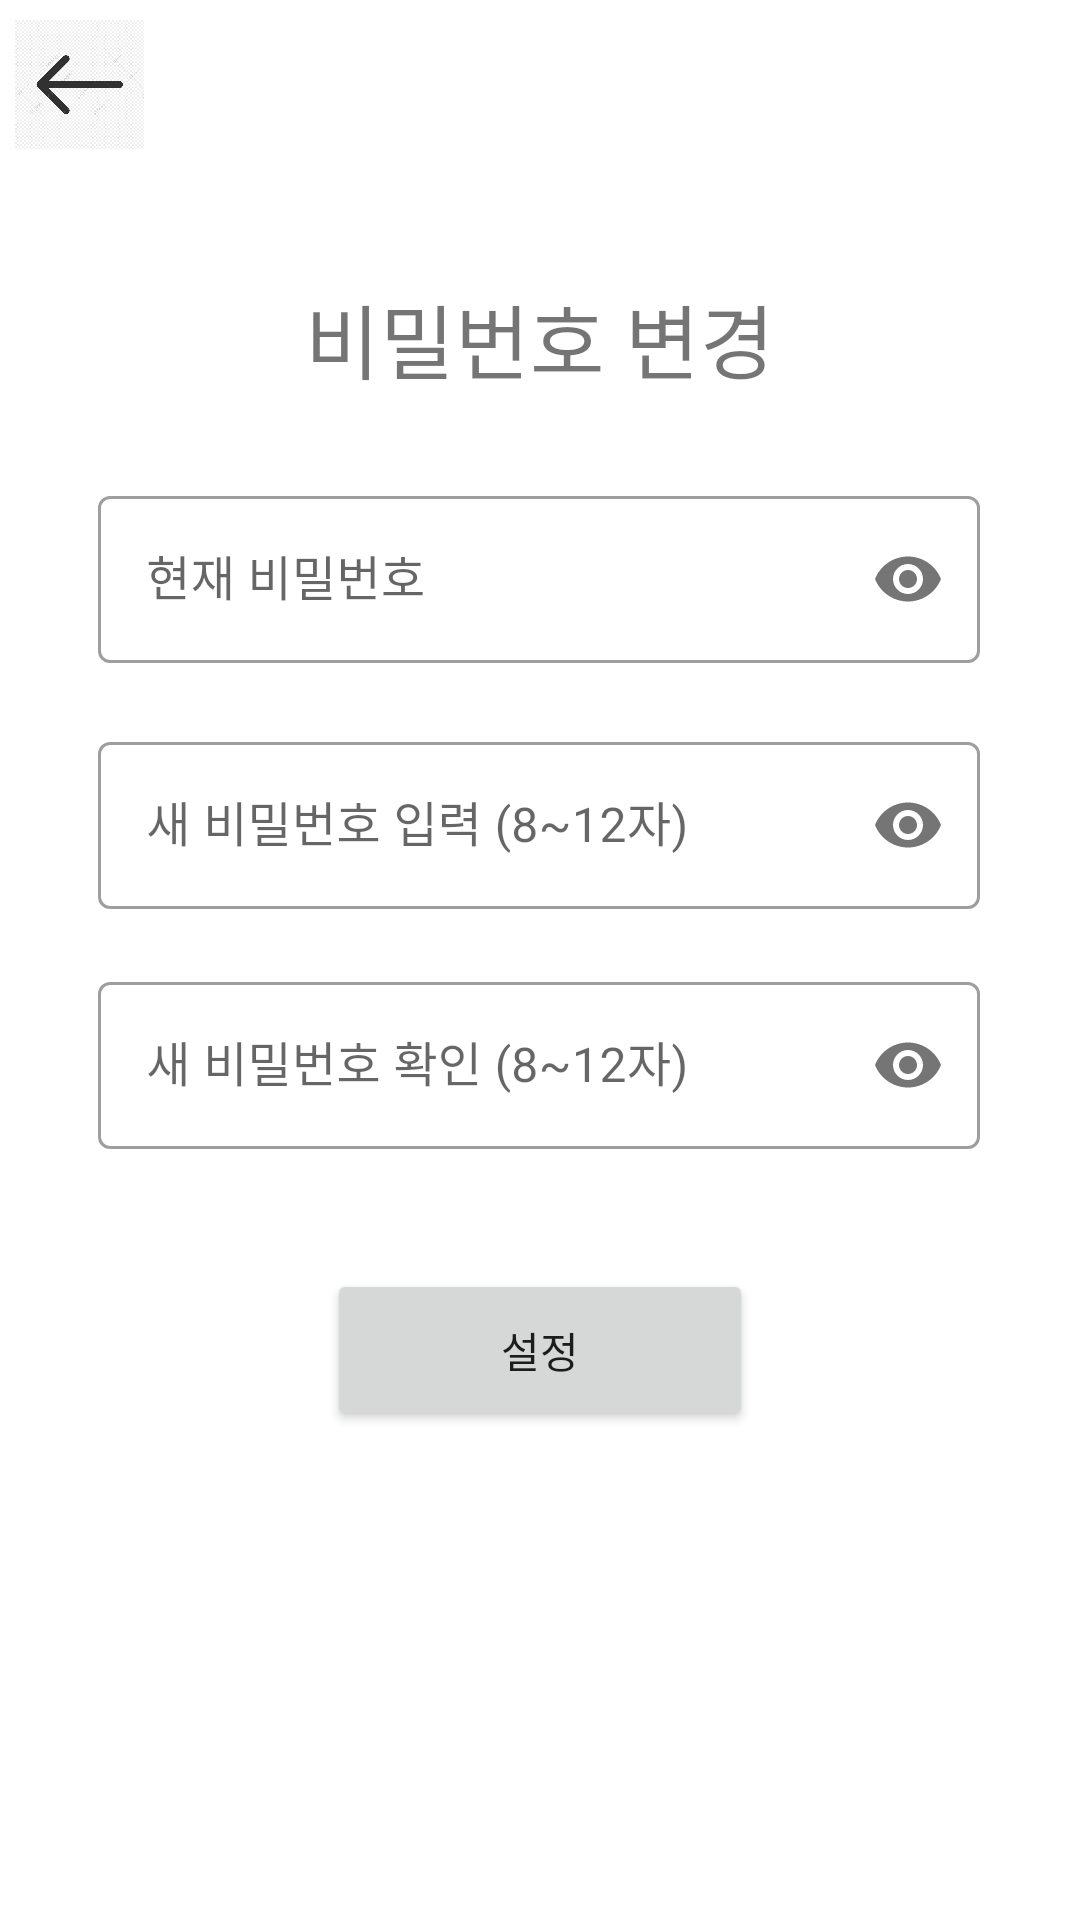

Screen size 1080*1920. Icon name, then its center in pixels as (x,y):
back: (80,84)
